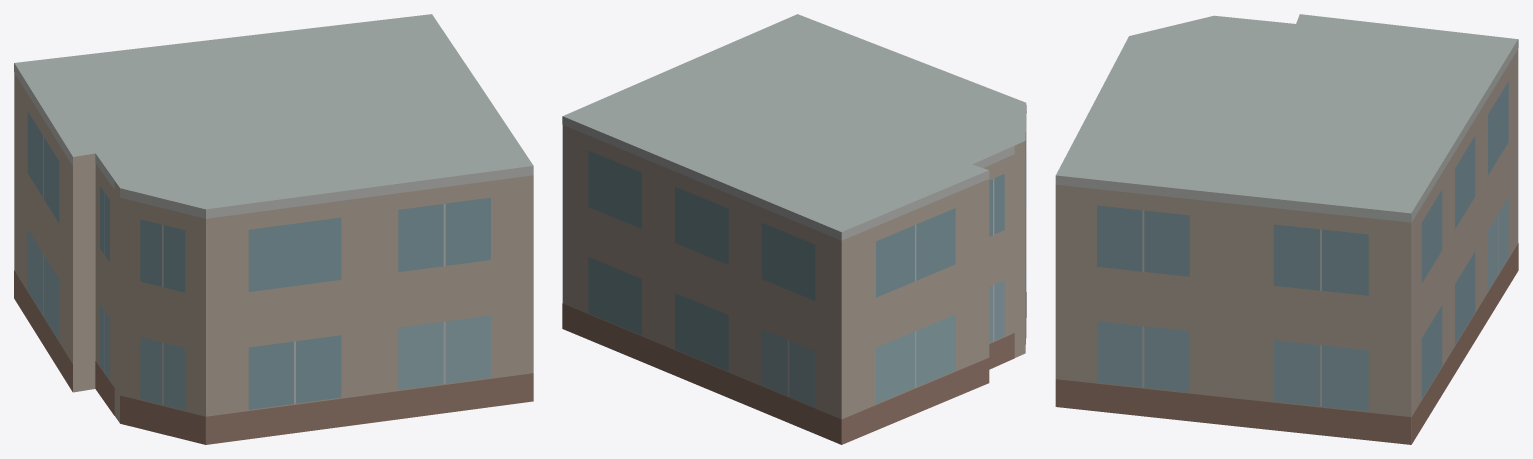
File: survey-upis-32947531.glb
The picture shows the model from 3 angles, left to right: view 1: azimuth 30°, elevation 25°; view 2: azimuth 150°, elevation 25°; view 3: azimuth 270°, elevation 25°; orthographic projection. The views are drawn at different scales.
Parts seen in each view (by area): view 1: survey-upis-32947531.tmp; view 2: survey-upis-32947531.tmp; view 3: survey-upis-32947531.tmp.
Boxes of the visible parts, x1,y1,x2,y2 form: survey-upis-32947531.tmp: (14,14,533,444); survey-upis-32947531.tmp: (562,14,1026,444); survey-upis-32947531.tmp: (1055,14,1518,444).
Bounding box in the file's own units: 11.28 × 6.1 × 11.06.
